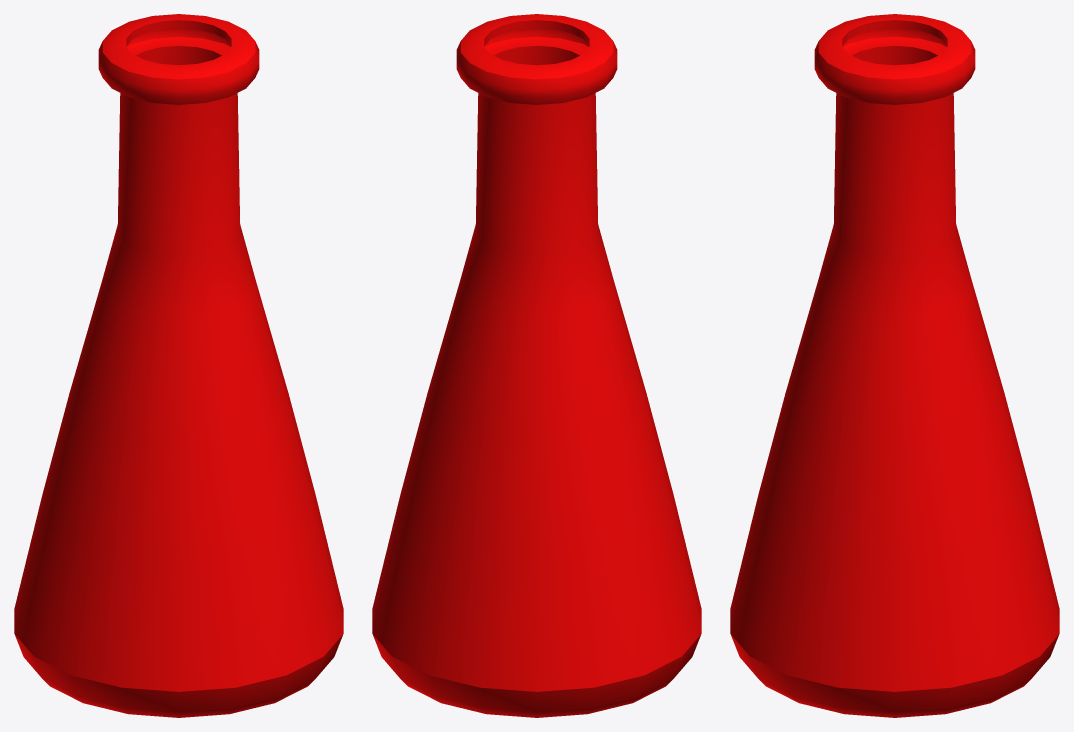
The model's file is LabProp06.fbx.
3 views of the same model, side by side, from view 1: azimuth 30°, elevation 25°; view 2: azimuth 150°, elevation 25°; view 3: azimuth 270°, elevation 25° (orthographic).
Visible parts, largest first — view 1: LabProp06; view 2: LabProp06; view 3: LabProp06.
Boxes of the visible parts, <box> form: LabProp06: <box>14,14,343,717</box>; LabProp06: <box>372,14,701,717</box>; LabProp06: <box>730,14,1059,717</box>.
Bounding box in the file's own units: 25.74 × 52.71 × 25.35.
